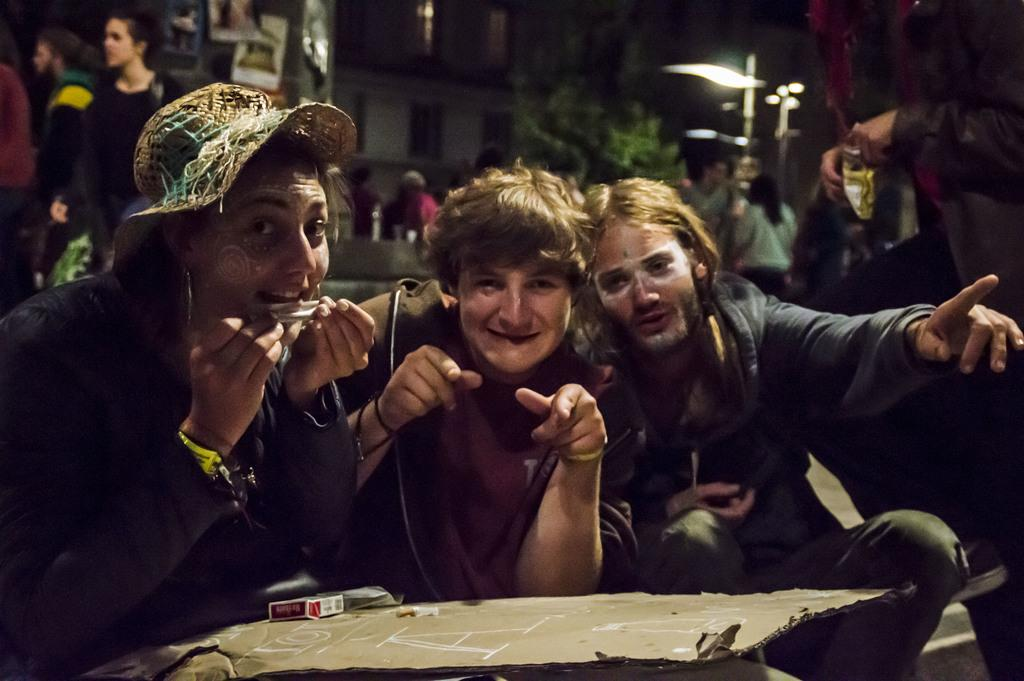Sem Máscara: (195, 159, 327, 332), (588, 217, 695, 344), (459, 254, 567, 375), (103, 14, 134, 64), (32, 39, 51, 73)
